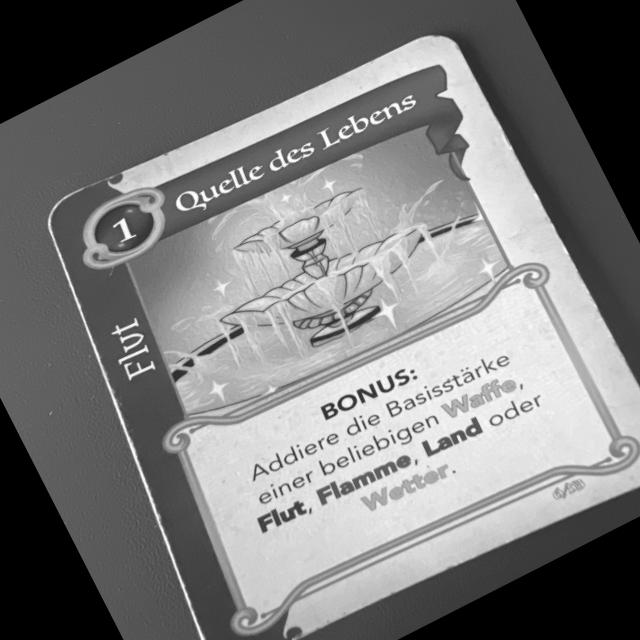Fountain Of Life: (36, 19, 640, 640)
